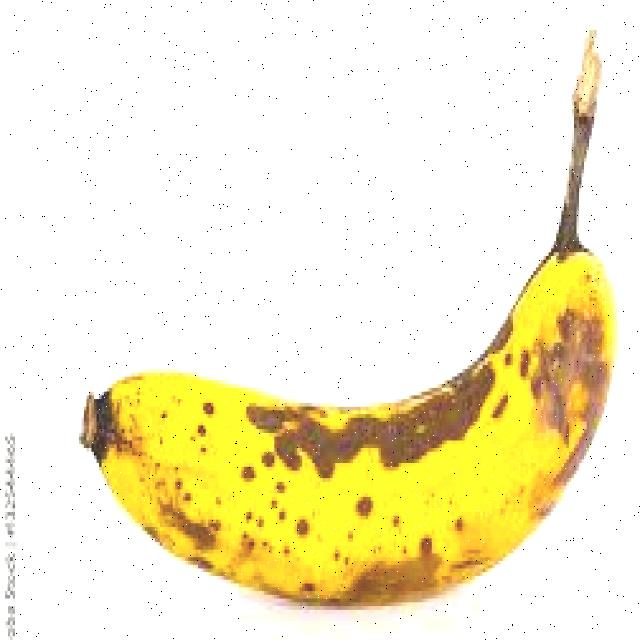Overripe: (43, 0, 640, 621)
